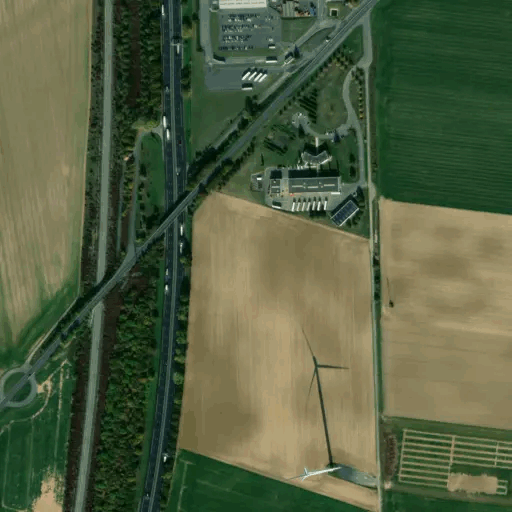wt: (280, 324, 353, 490)
